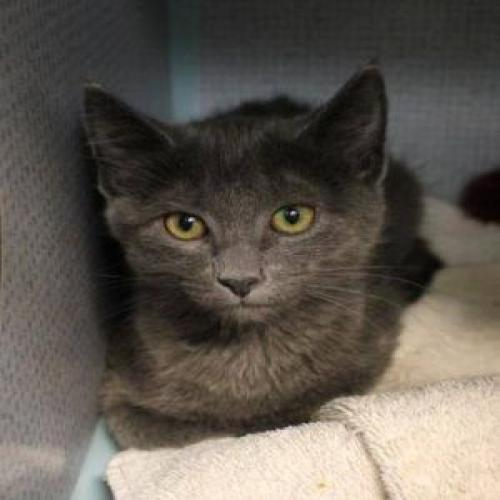rblue: (70, 58, 405, 344)
